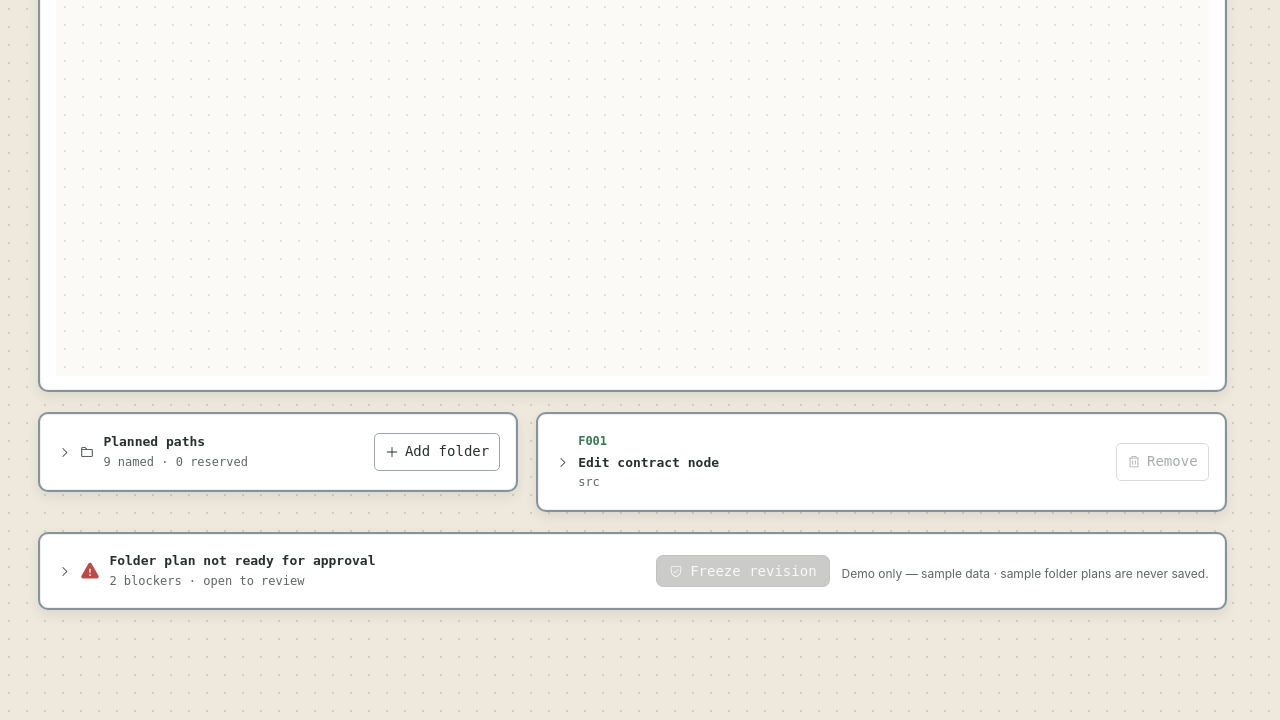
Scenario: Define controls › Reset proposal in the Demo restores the sample plan
(page scrolled)
What coordinates should you click on to do the following:
click the button "Add folder"
I would click on:
 (437, 452)
Its box is [374,433,500,471].
(page scrolled)
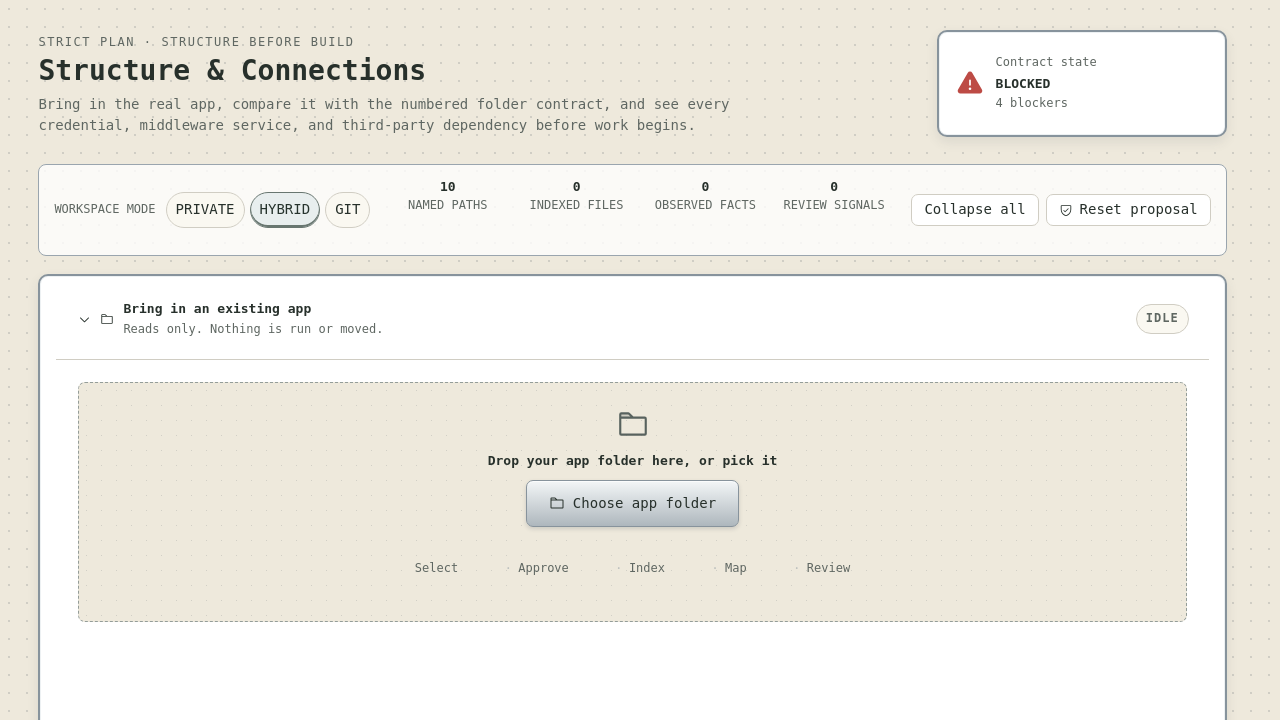
Expected: the text "10" is shown, [440,178,456,195]
What coordinates should you click on to do the following:
click the button "Reset proposal"
I would click on:
 (1128, 210)
Its box is [1046,194,1211,226].
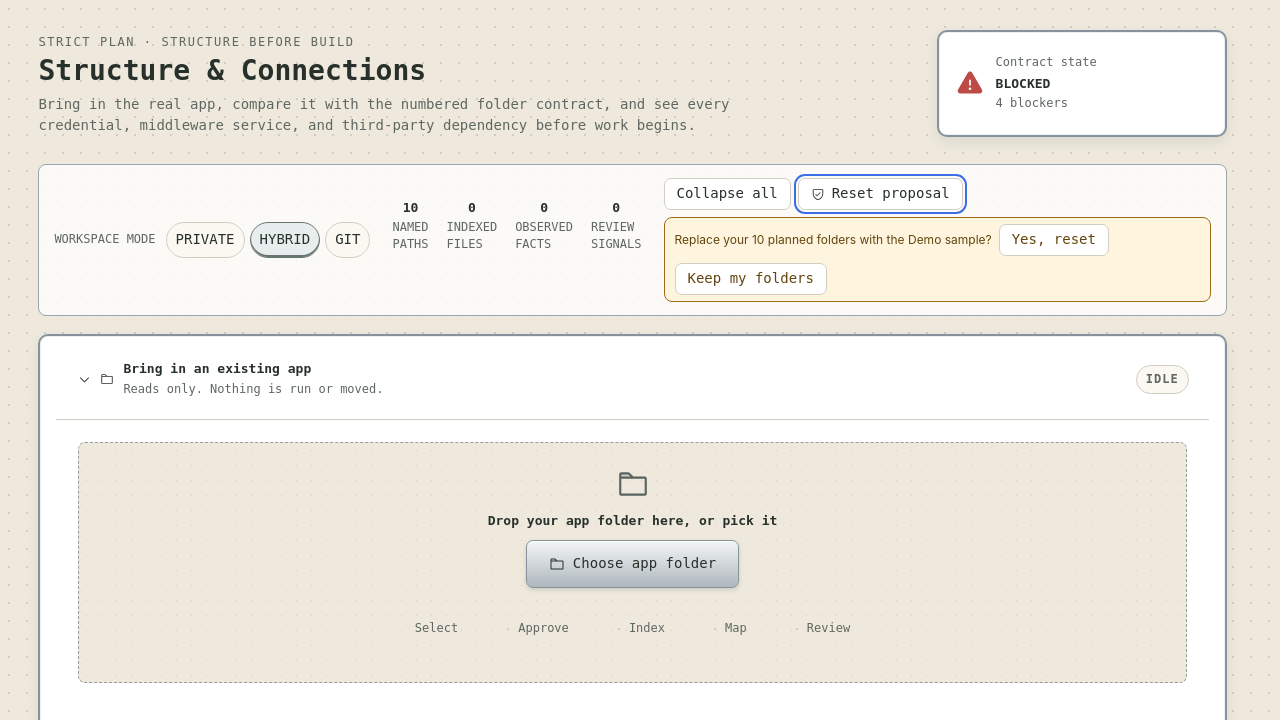
What coordinates should you click on to do the following:
click the button "Yes, reset"
I would click on:
 (1054, 240)
Its box is [999,224,1109,256].
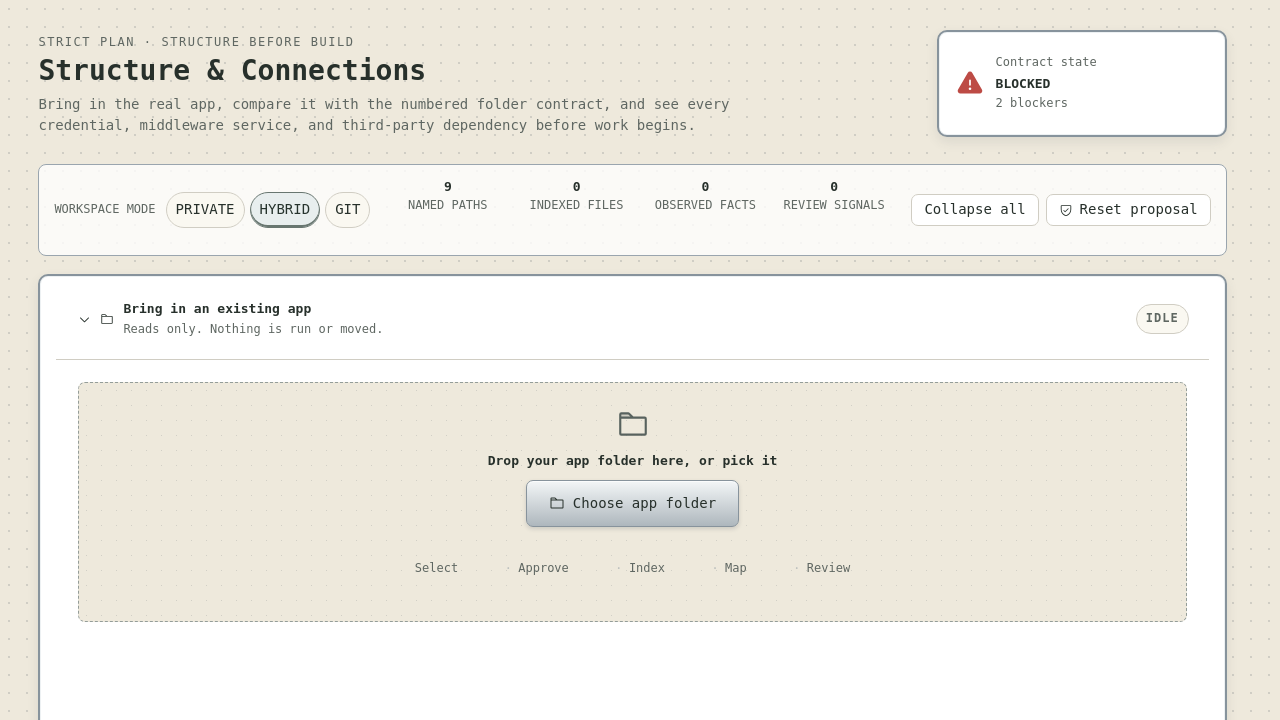
Expected: the text "9" is shown, [444,178,452,195]
